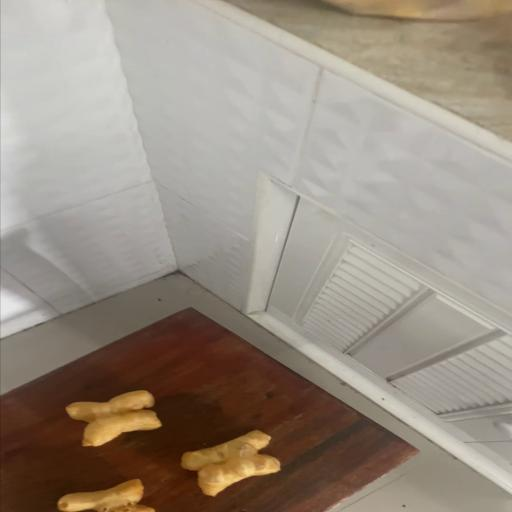street_golden_defect: (182, 430, 280, 495)
street_golden_good: (68, 390, 164, 445)
